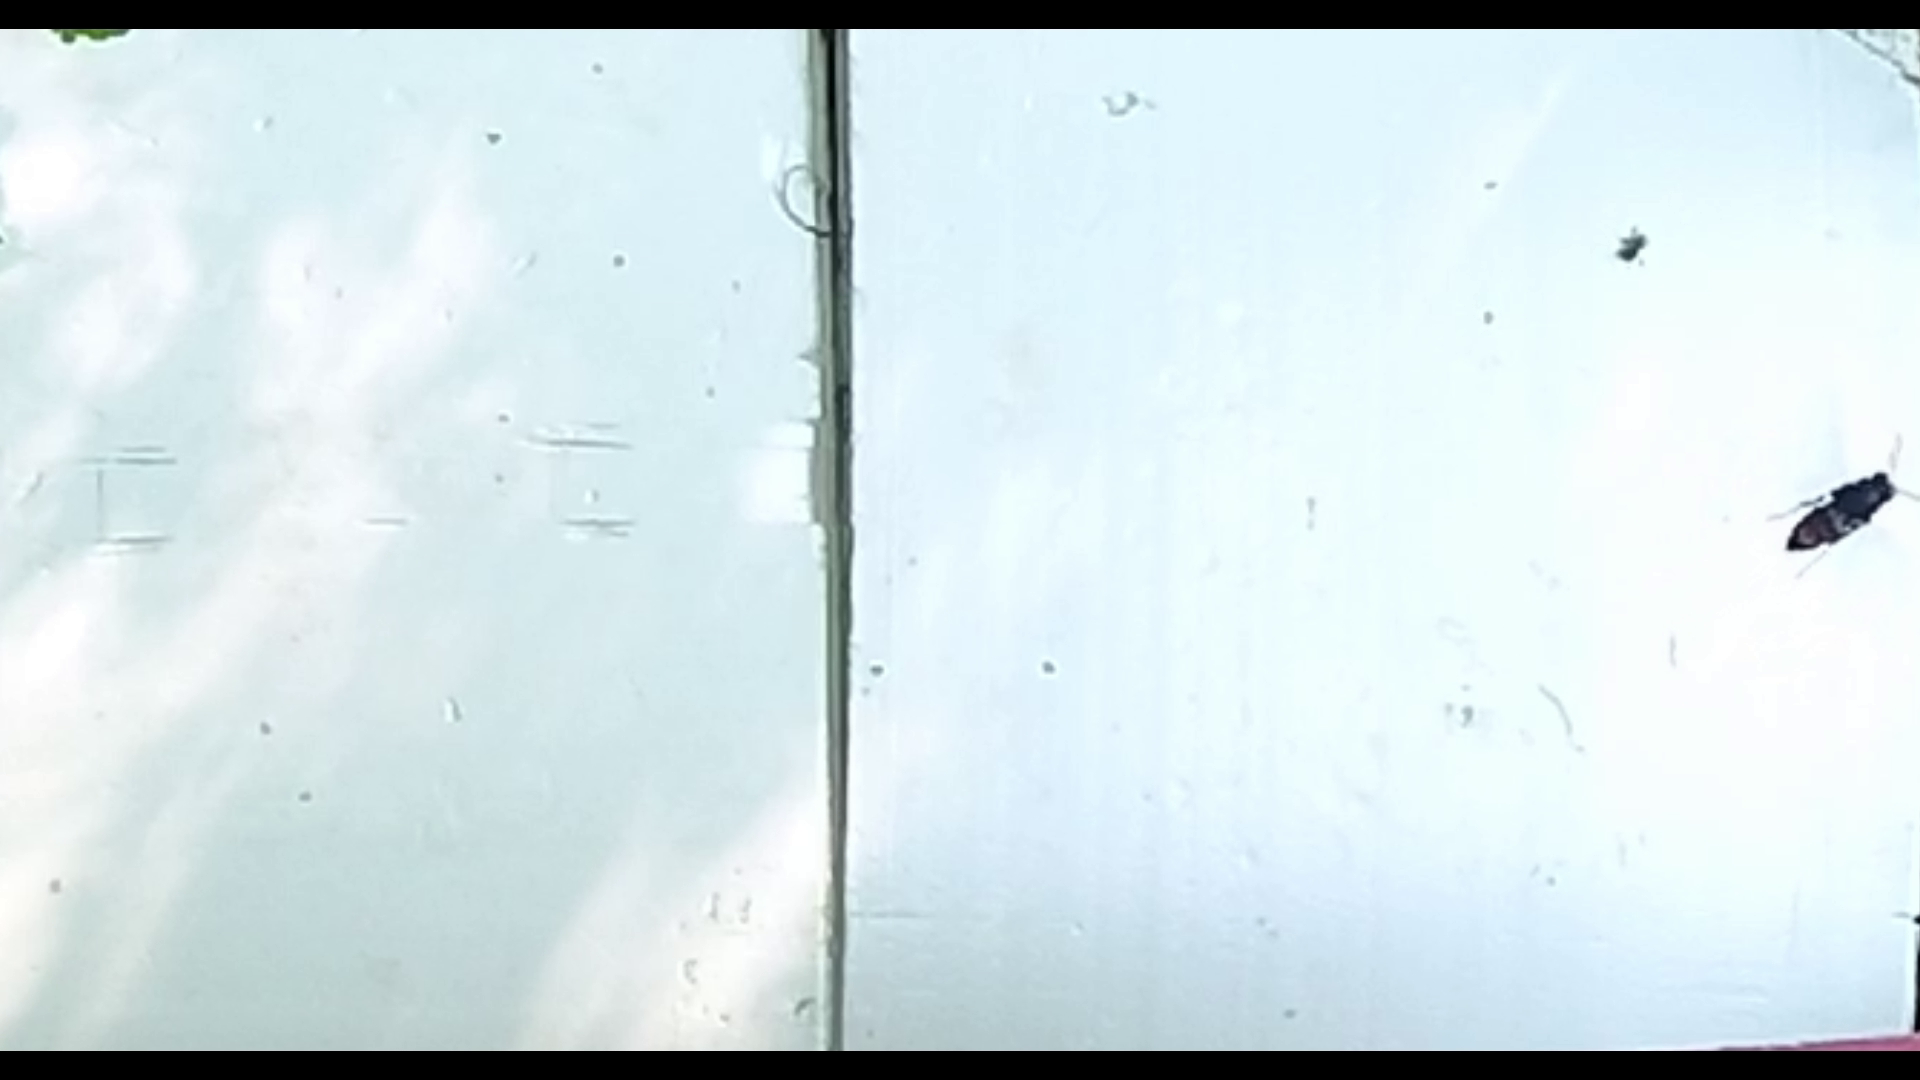Asian_hornets: (1758, 418, 1915, 587)
